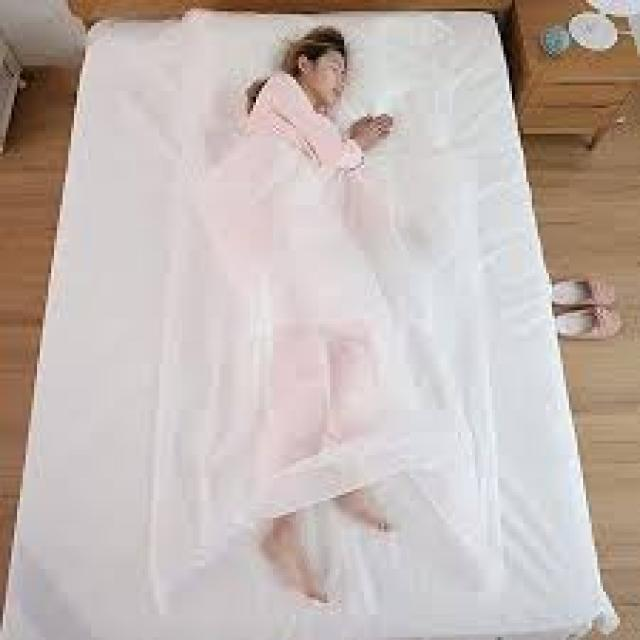bed: (0, 0, 620, 637)
